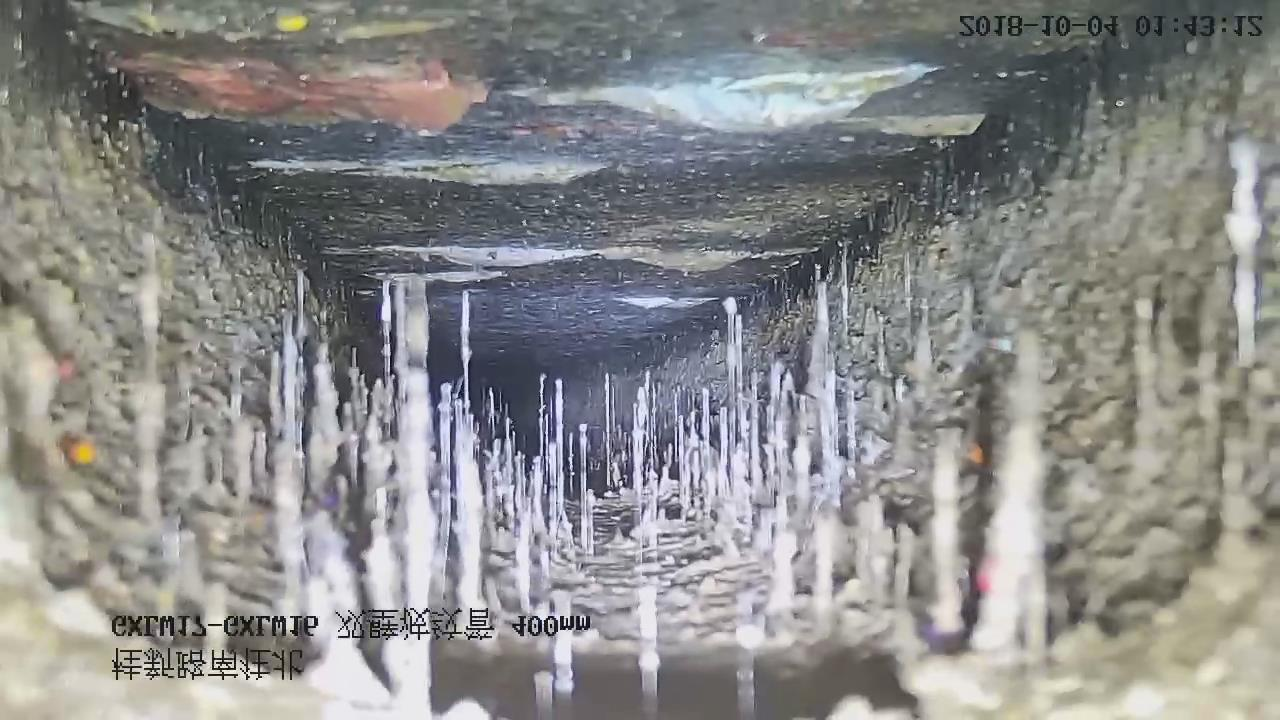FZ: (74, 1, 1050, 368)
JG: (0, 1, 1279, 720)
